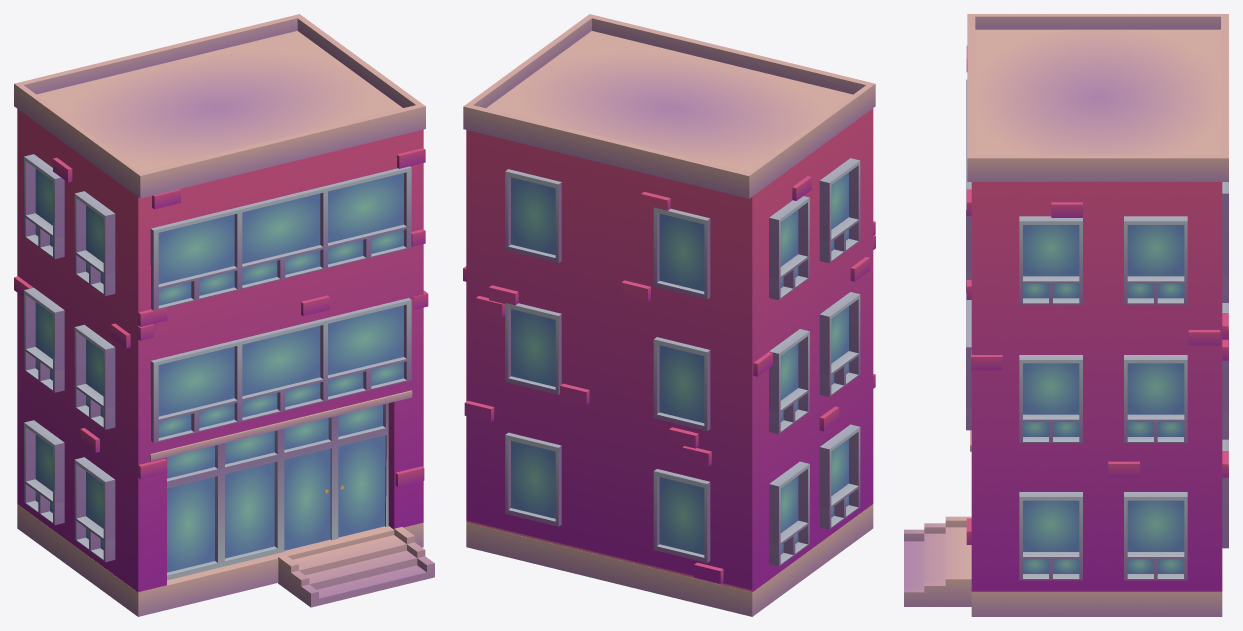
File: SM_3F_R_Half_03.fbx
The picture shows the model from 3 angles, left to right: view 1: azimuth 30°, elevation 25°; view 2: azimuth 150°, elevation 25°; view 3: azimuth 270°, elevation 25°; orthographic projection. The views are drawn at different scales.
Parts seen in each view (by area): view 1: SM_3F_R_Half_03; view 2: SM_3F_R_Half_03; view 3: SM_3F_R_Half_03.
Part boxes in pixels (x1=…): SM_3F_R_Half_03: x1=14, y1=14, x2=434, y2=616; SM_3F_R_Half_03: x1=463, y1=14, x2=875, y2=616; SM_3F_R_Half_03: x1=904, y1=14, x2=1228, y2=616.
Size of the model in its own units: 7.78 by 6.92 by 10.8.
